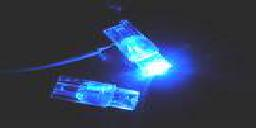LED: (101, 19, 175, 77), (48, 75, 143, 120)
